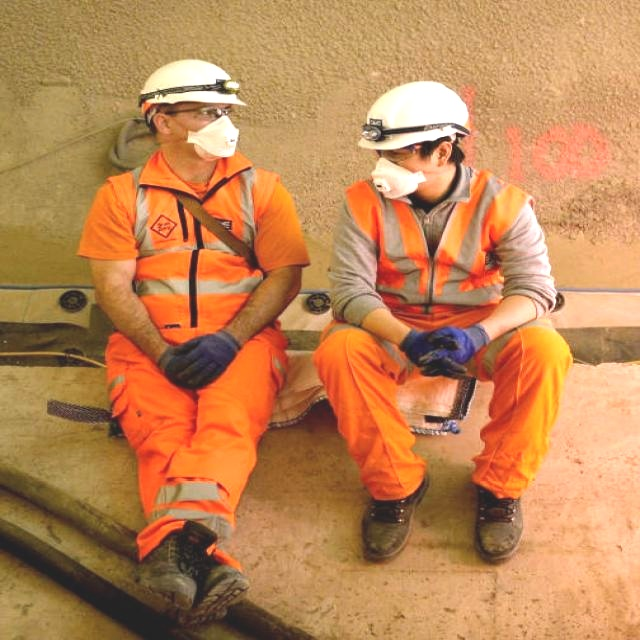Con_Casco: (137, 59, 243, 157)
Con_Chaleco: (96, 165, 294, 349), (332, 173, 553, 334)
